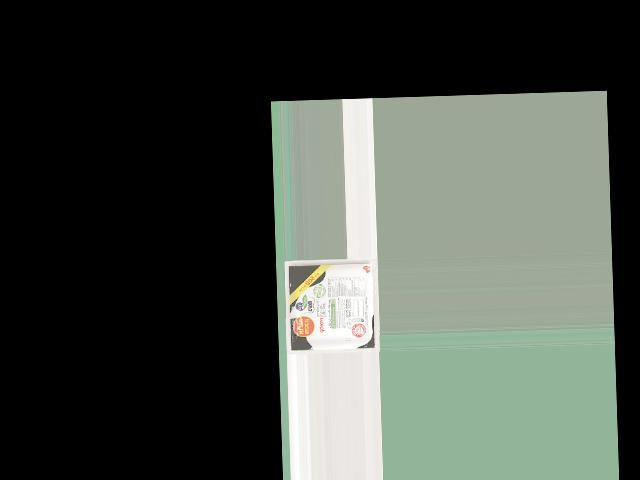cheese: (290, 258, 372, 351)
